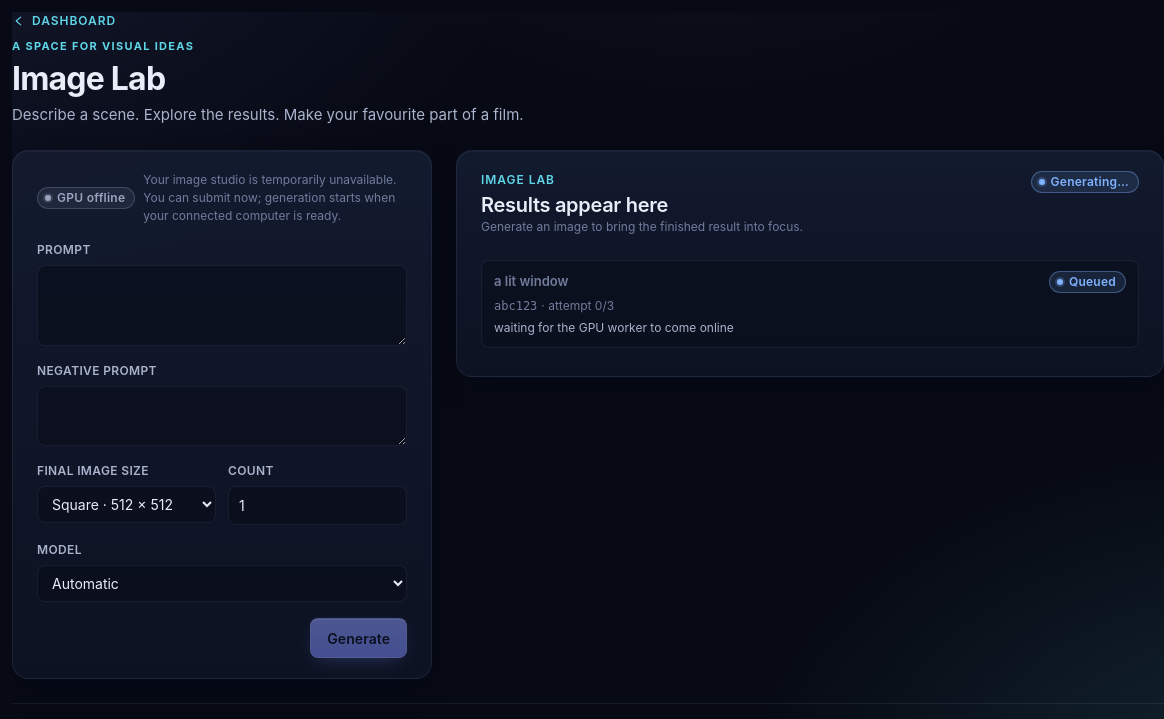
Test case: GeneratePage › shows the API error message when queueing fails
Type "x" into the text box labelled "Prompt" at (222, 306), box [37,265,407,346]
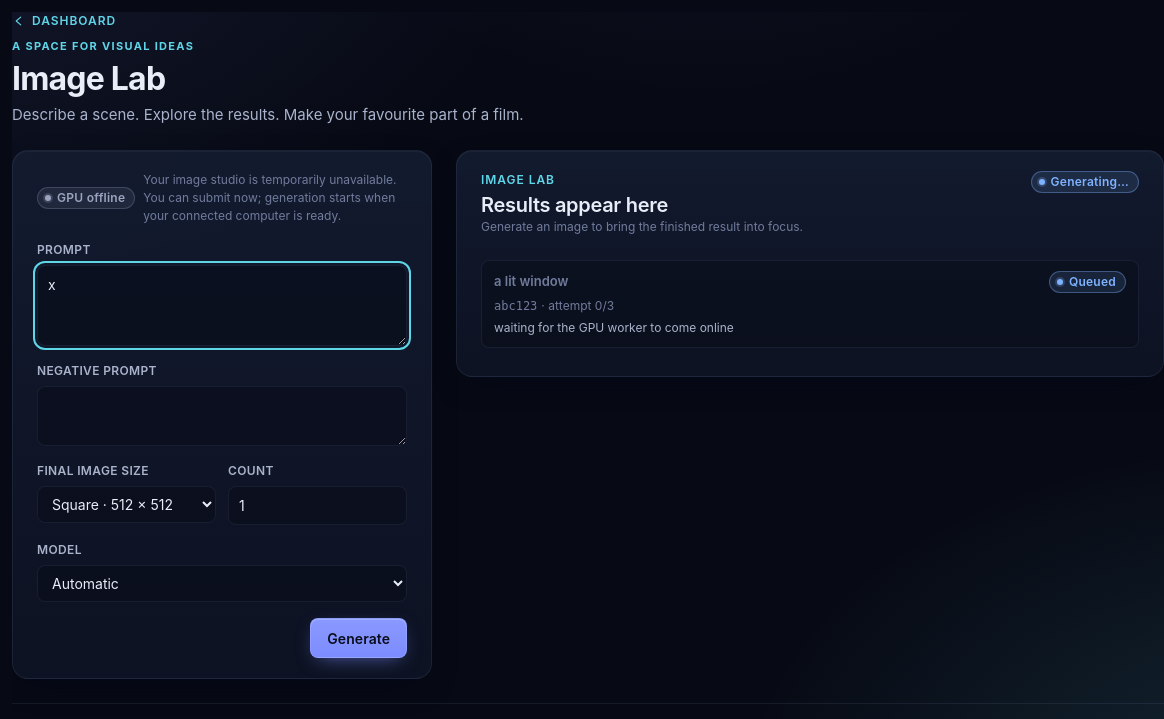
Click the button "Generate" at (359, 638), box [310,618,407,658]
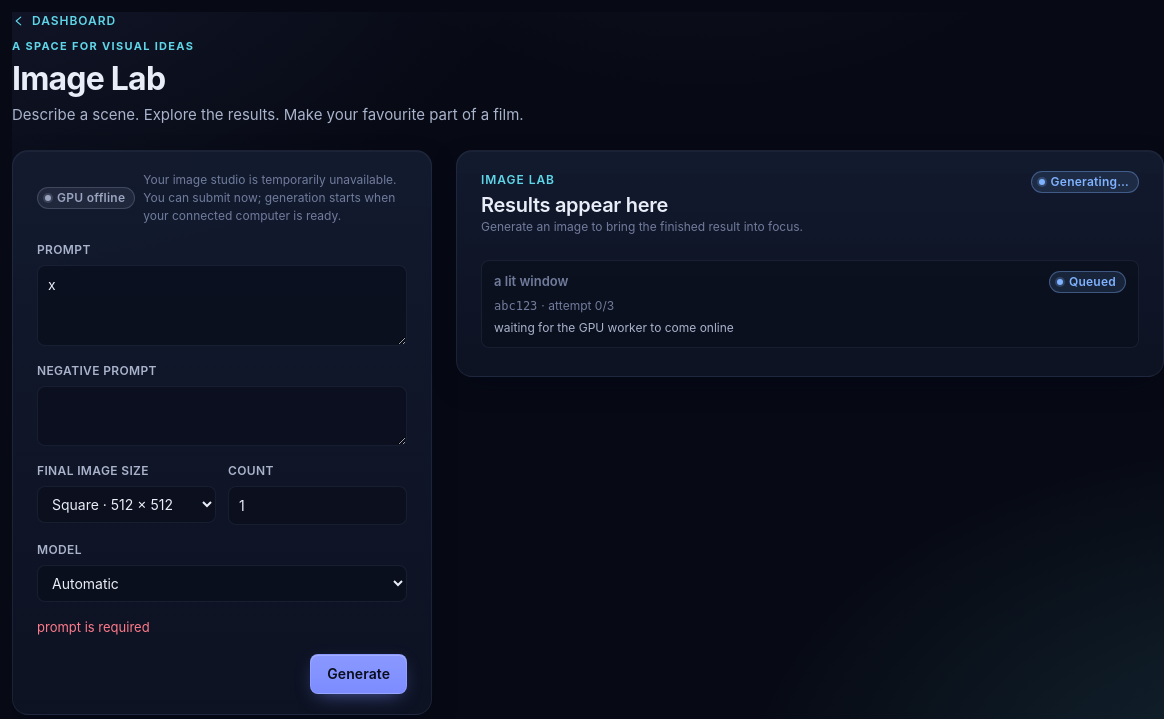
Expected: the message reads "prompt is required", [37,619,150,635]
